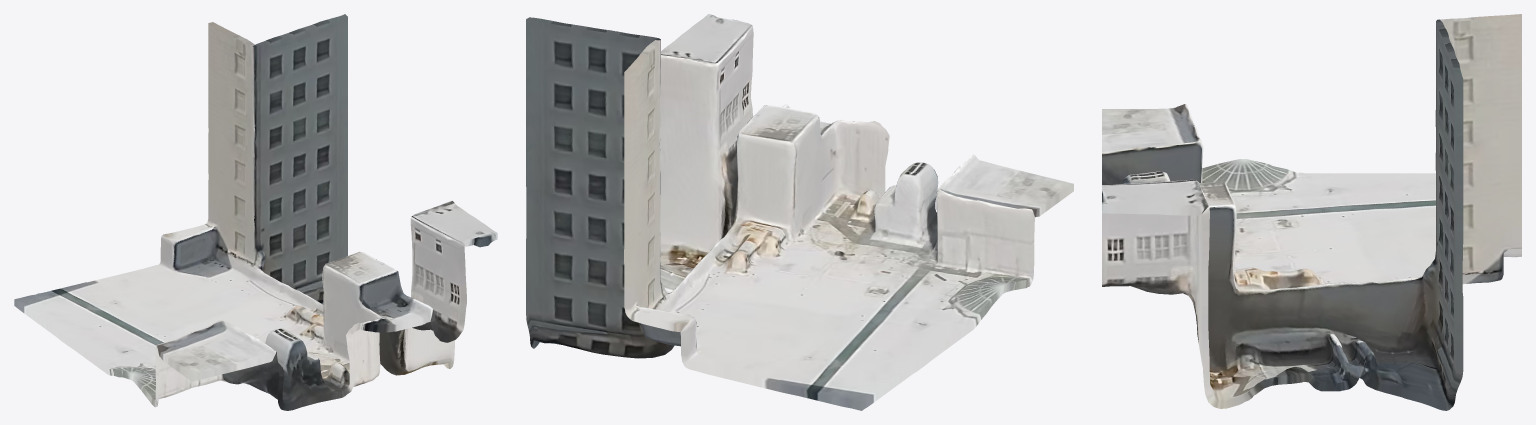
Rendered from z20-167748-405245-h0-yup-uvflip-v3-world.glb.
The picture shows the model from 3 angles, left to right: view 1: azimuth 30°, elevation 25°; view 2: azimuth 150°, elevation 25°; view 3: azimuth 270°, elevation 25°; orthographic projection. The views are drawn at different scales.
Size of the model in its own units: 30.16 by 26.48 by 30.32.
1 material, 1 textured.
